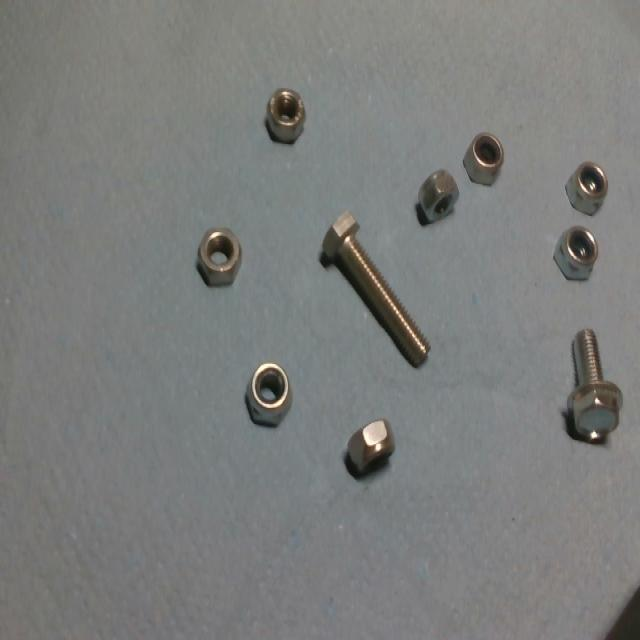Bolt: (313, 210, 443, 368), (564, 324, 630, 452)
Nut: (343, 414, 397, 484), (193, 222, 248, 289), (243, 358, 294, 428), (566, 153, 617, 222), (552, 219, 606, 283), (260, 85, 312, 147), (457, 129, 511, 188), (412, 169, 462, 228)
